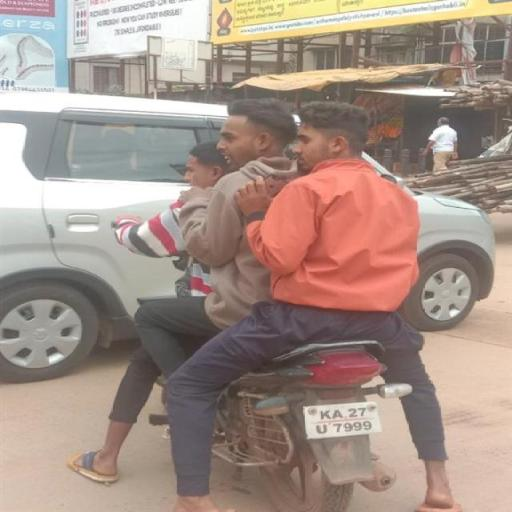tripple riding: (106, 88, 428, 346)
